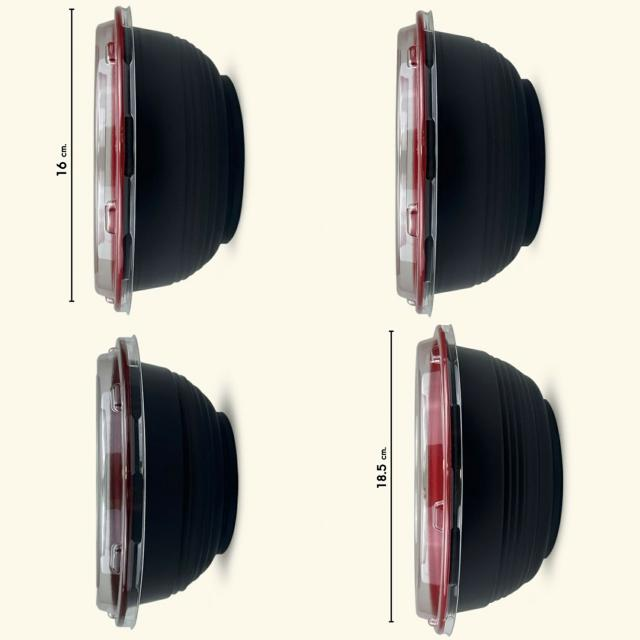Single-Use-Plastic: (415, 325, 562, 634), (95, 8, 244, 312), (396, 11, 545, 313), (96, 336, 238, 627)
